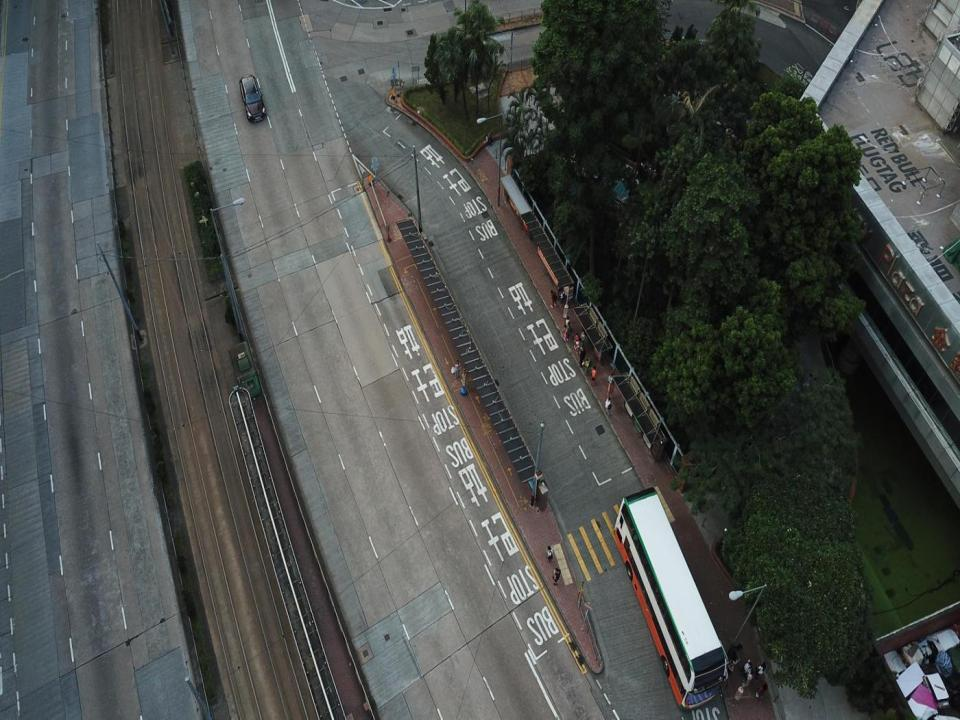bus: (614, 487, 728, 709)
car: (240, 73, 266, 123)
